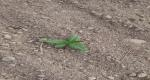osot: (41, 35, 90, 51)
